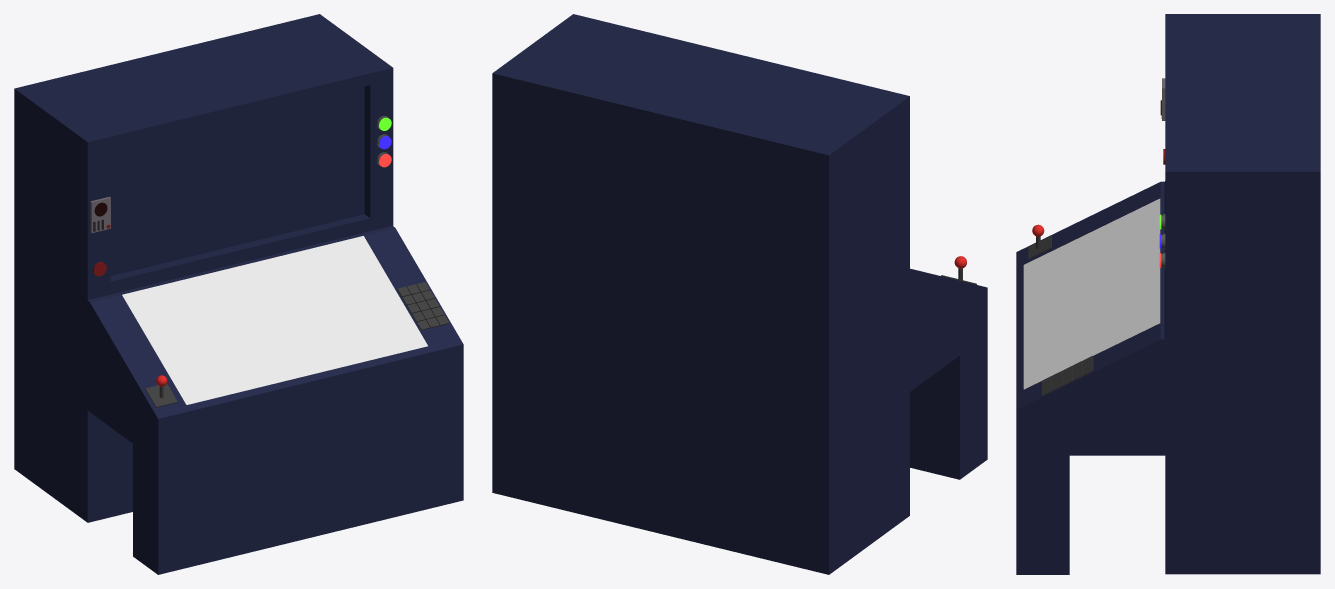
Rendered from PantallaArbolesEInfo.fbx.
The picture shows the model from 3 angles, left to right: view 1: azimuth 30°, elevation 25°; view 2: azimuth 150°, elevation 25°; view 3: azimuth 270°, elevation 25°; orthographic projection. The views are drawn at different scales.
Visible parts, largest first — view 1: Cube, Plane, Cube.001; view 2: Cube; view 3: Cube, Plane, Cube.001.
Boxes of the visible parts, x1=… form: Cube: x1=14, y1=14, x2=463, y2=574; Plane: x1=122, y1=236, x2=427, y2=404; Cube.001: x1=397, y1=282, x2=449, y2=330; Cube: x1=492, y1=14, x2=987, y2=574; Cube: x1=1016, y1=14, x2=1320, y2=574; Plane: x1=1023, y1=198, x2=1160, y2=389; Cube.001: x1=1042, y1=356, x2=1093, y2=395.
Size of the model in its own units: 480 by 572 by 391.
